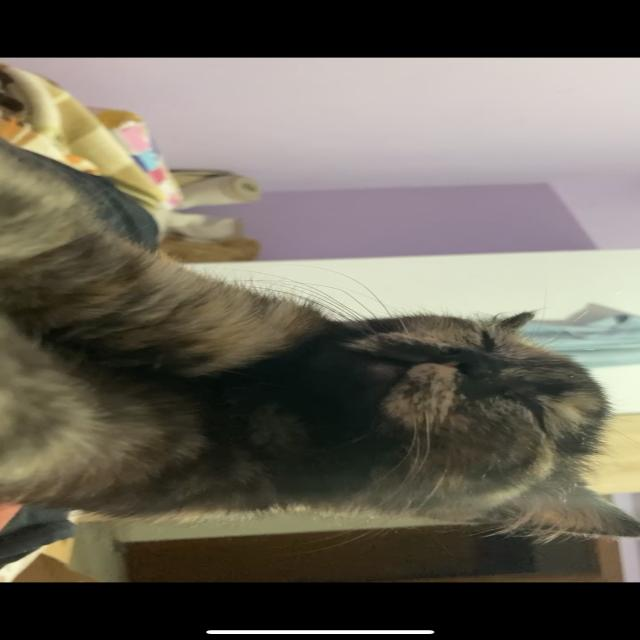authorized: (2, 135, 637, 546)
